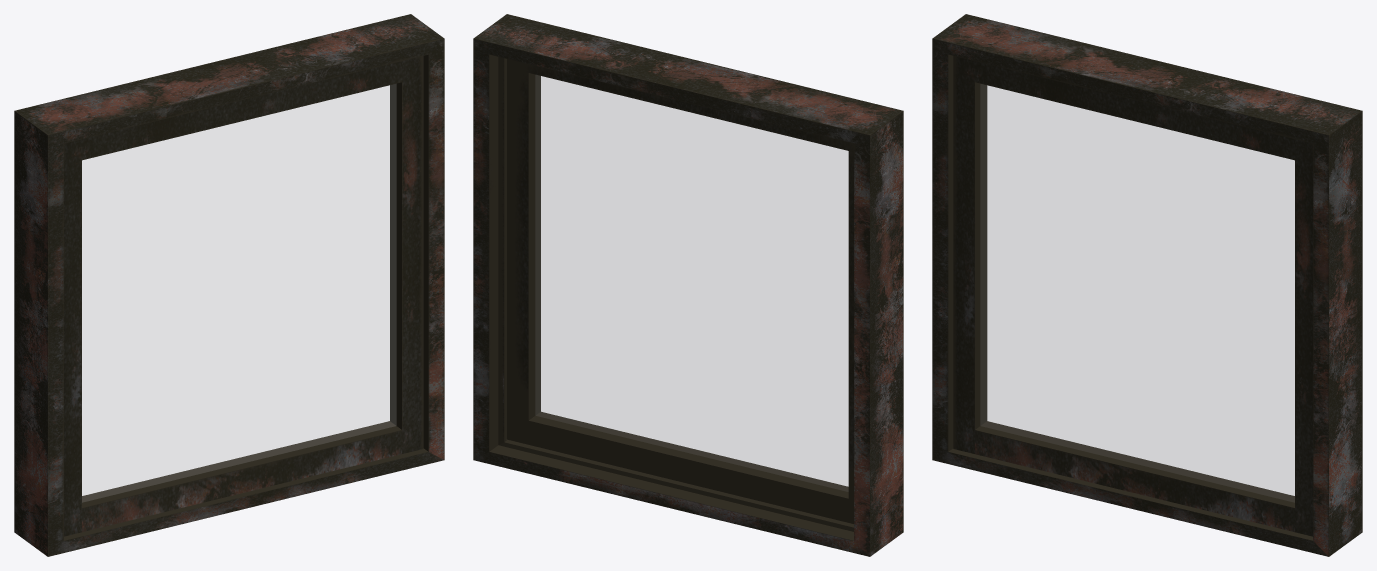
File: window.glb
3 views of the same model, side by side, from view 1: azimuth 30°, elevation 25°; view 2: azimuth 150°, elevation 25°; view 3: azimuth 330°, elevation 25° (orthographic).
Parts seen in each view (by area): view 1: up, f; view 2: up, f; view 3: up, f.
Boxes of the visible parts, bbox=[...] form: up: bbox=[64, 56, 423, 536]; f: bbox=[14, 14, 444, 556]; up: bbox=[507, 59, 853, 523]; f: bbox=[473, 14, 903, 556]; up: bbox=[953, 56, 1312, 536]; f: bbox=[932, 14, 1362, 556].
Size of the model in its own units: 0.8999 by 0.9144 by 0.1316.
Materials: 3 (2 with a texture image).
